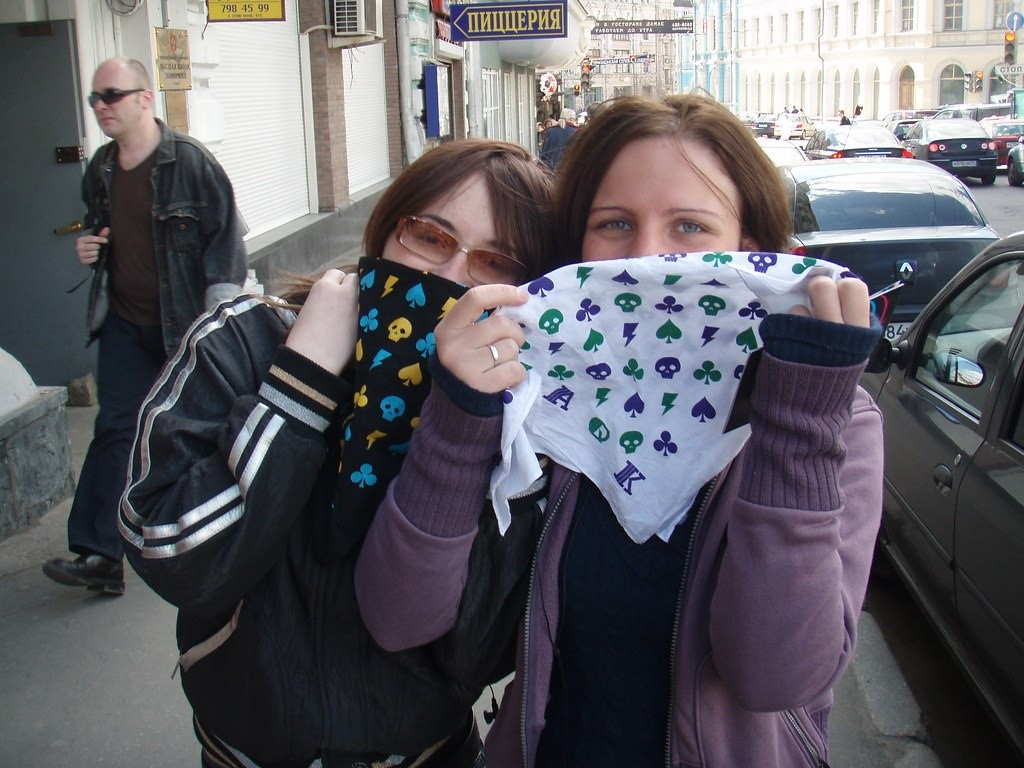face_no_mask: (87, 55, 152, 141)
face_with_mask: (573, 113, 750, 368), (367, 150, 530, 368)
